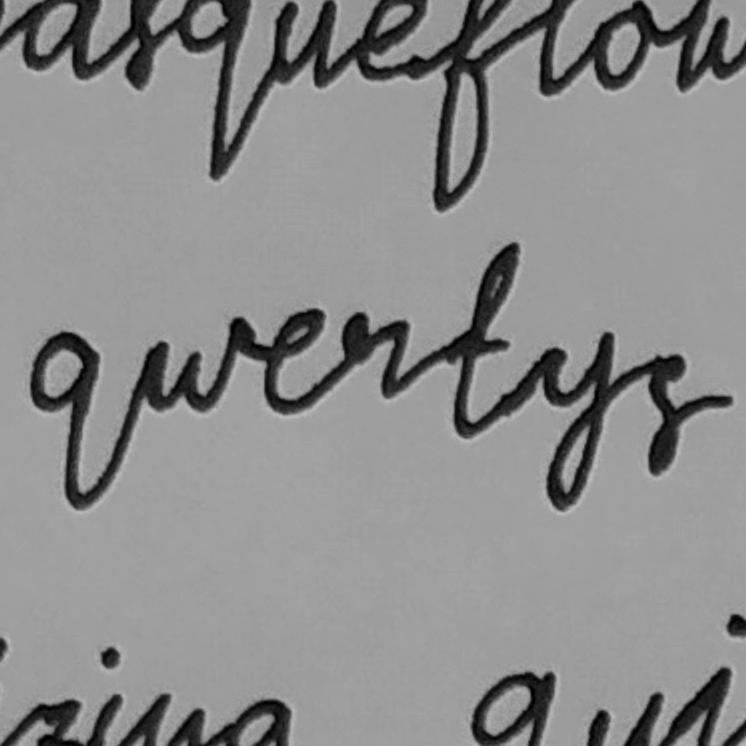e: (256, 298, 333, 423)
q: (20, 321, 114, 523)
r: (335, 300, 419, 412)
s: (629, 340, 746, 479)
t: (431, 232, 525, 446)
w: (128, 308, 253, 419)
y: (527, 323, 620, 517)
